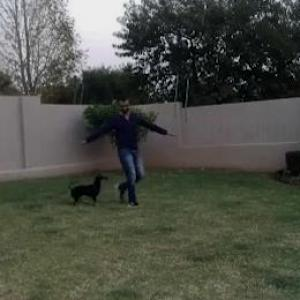land: (73, 93, 157, 194)
